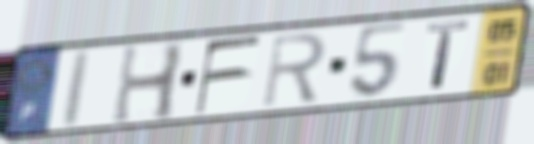5: (347, 19, 413, 102)
F: (192, 33, 265, 118)
H: (108, 40, 189, 128)
I: (56, 46, 95, 131)
R: (259, 30, 330, 110)
T: (424, 18, 473, 93)
